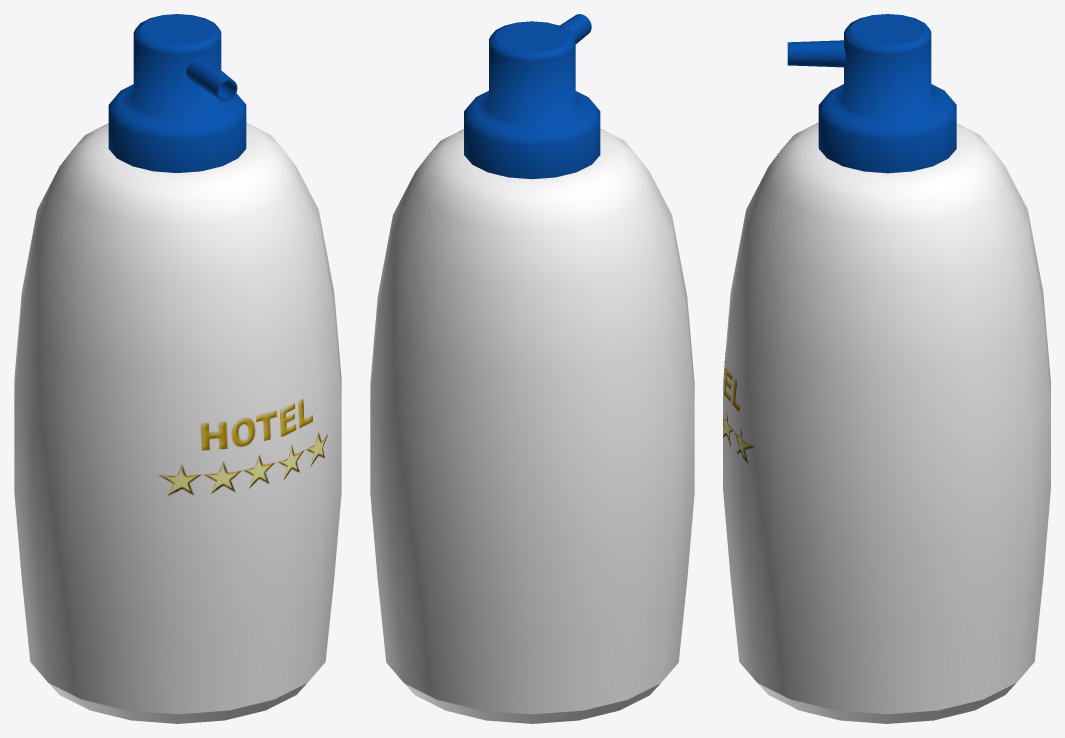
File: Soap.FBX
The picture shows the model from 3 angles, left to right: view 1: azimuth 30°, elevation 25°; view 2: azimuth 150°, elevation 25°; view 3: azimuth 270°, elevation 25°; orthographic projection.
Parts seen in each view (by area): view 1: Soap; view 2: Soap; view 3: Soap.
Part boxes in pixels (x1,y1,x2,y2): Soap: [14, 14, 341, 723]; Soap: [370, 14, 694, 723]; Soap: [723, 14, 1050, 723].
Size of the model in its own units: 7.09 by 14.96 by 6.98.
Materials: 1 (1 with a texture image).
